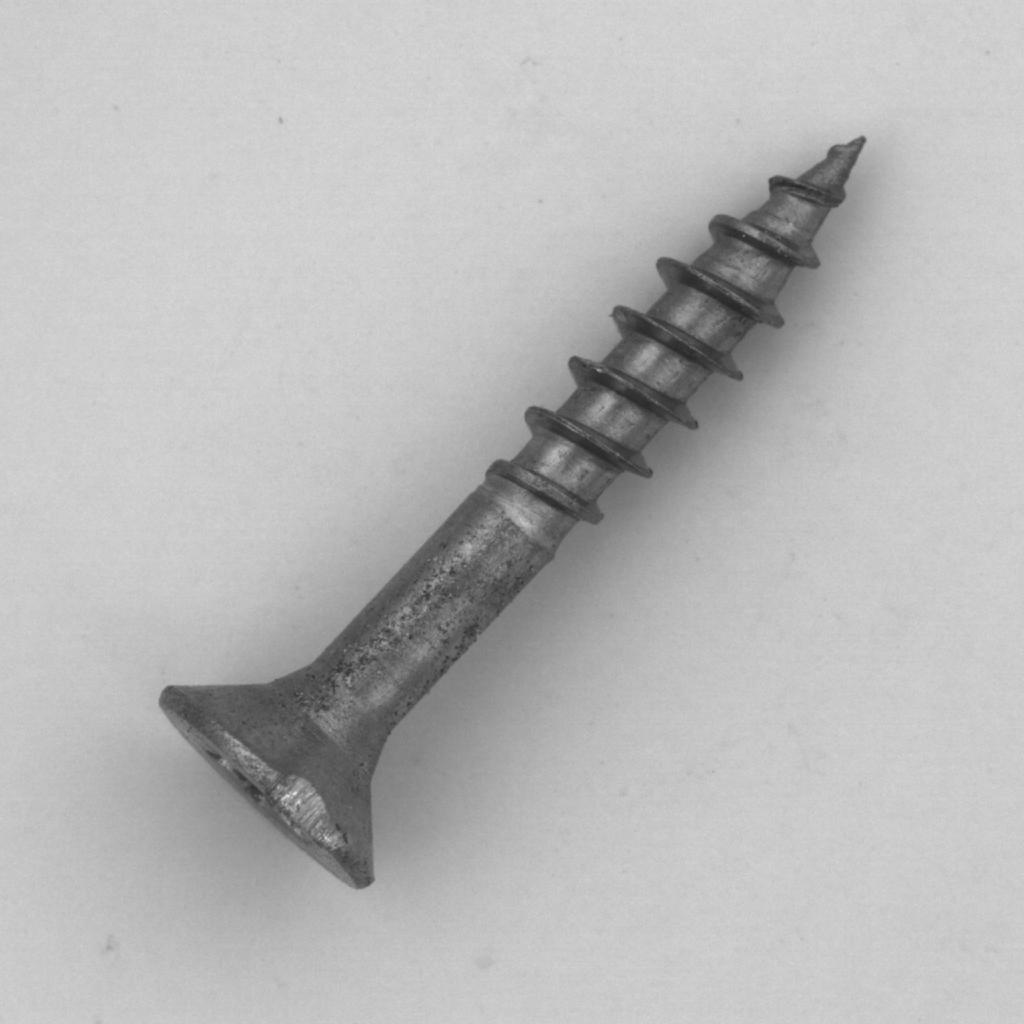bad: (39, 281, 983, 724)
